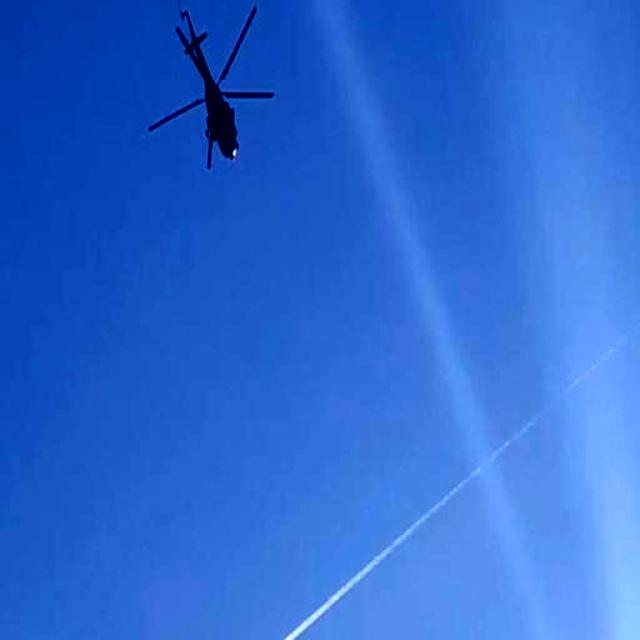drone: (150, 12, 271, 180)
